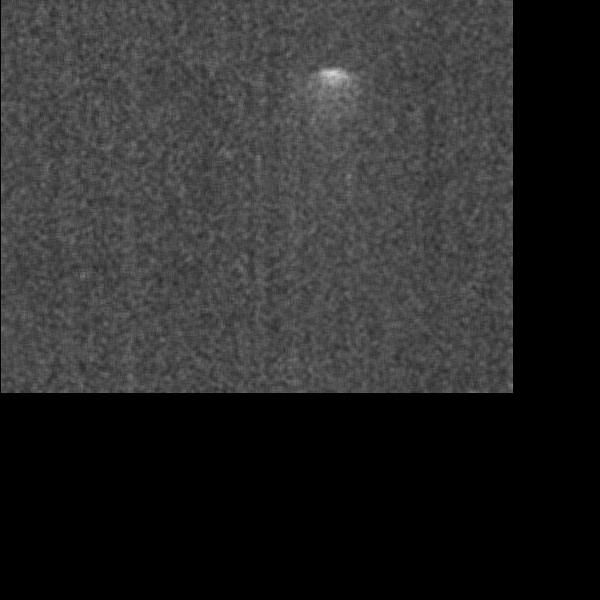spark: (287, 287, 321, 364), (453, 23, 490, 50), (430, 99, 450, 128), (116, 2, 142, 23), (497, 275, 514, 295)
